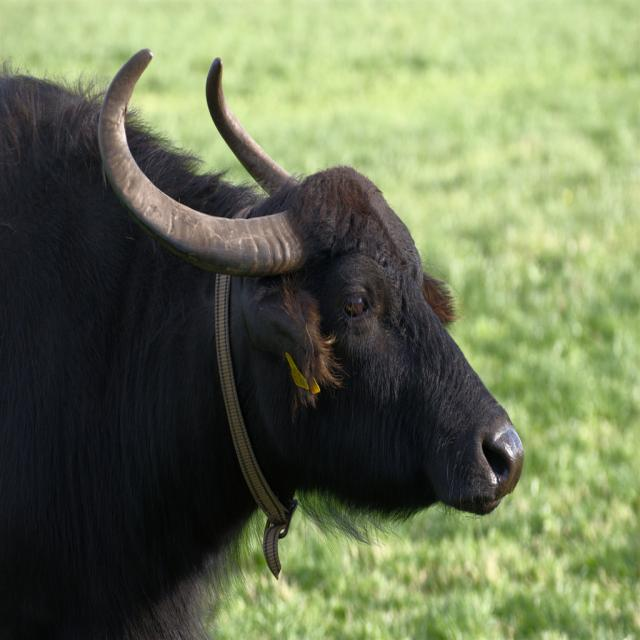Cattle: (0, 48, 524, 640)
